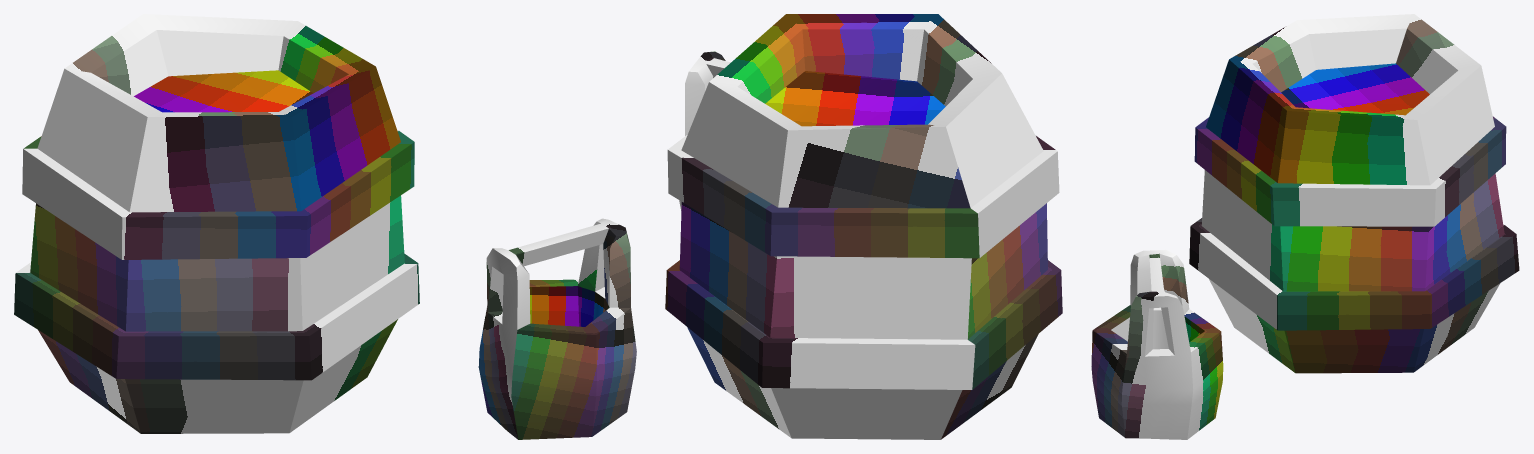
File: N_BarrelWithWater.fbx
3 renders of one model, left to right at view 1: azimuth 30°, elevation 25°; view 2: azimuth 150°, elevation 25°; view 3: azimuth 270°, elevation 25°, orthographic. The views are drawn at different scales.
Parts seen in each view (by area): view 1: N_BarrelWithFluid; view 2: N_BarrelWithFluid; view 3: N_BarrelWithFluid.
Part boxes in pixels (x1,y1,x2,y2): N_BarrelWithFluid: [14, 14, 636, 439]; N_BarrelWithFluid: [665, 14, 1062, 439]; N_BarrelWithFluid: [1091, 14, 1519, 439].
Bounding box in the file's own units: 100 × 69.34 × 99.81.
